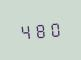eight: (33, 20, 46, 39)
four: (18, 21, 31, 40)
zero: (47, 19, 60, 38)
